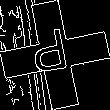P_S: (32, 27, 78, 83)
